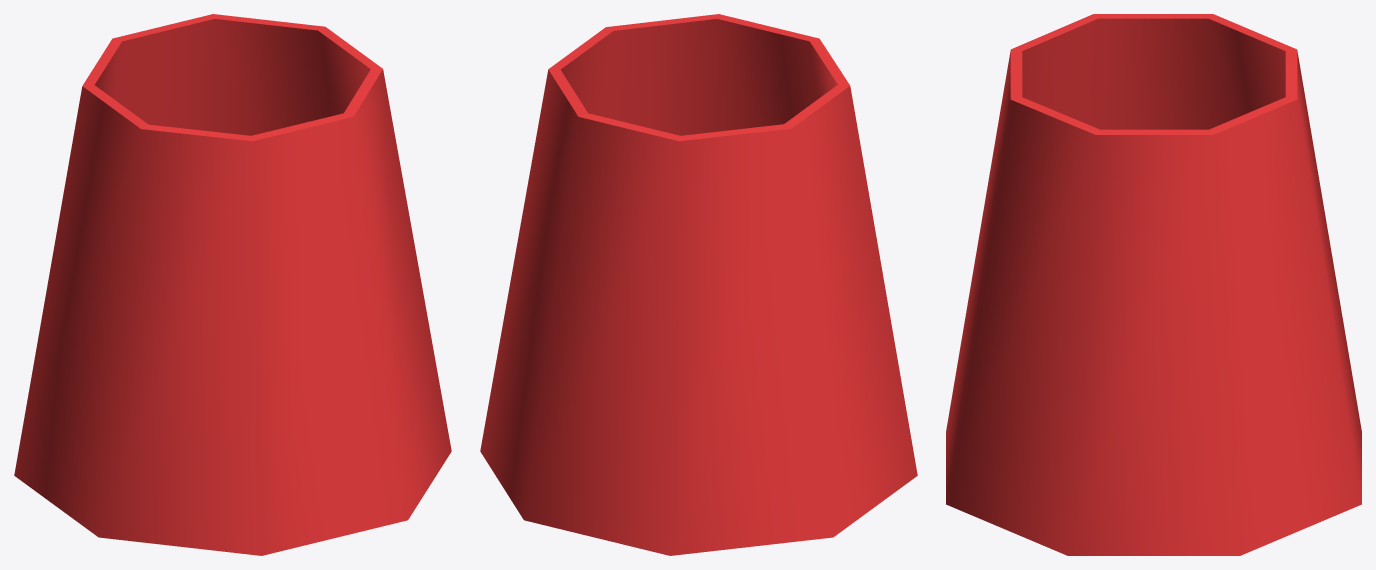
Rendered from Itr_Lamp_Cap1_05.FBX.
3 views of the same model, side by side, from view 1: azimuth 30°, elevation 25°; view 2: azimuth 150°, elevation 25°; view 3: azimuth 270°, elevation 25° (orthographic). The views are drawn at different scales.
Parts seen in each view (by area): view 1: Itr_Lamp_Cap1_05; view 2: Itr_Lamp_Cap1_05; view 3: Itr_Lamp_Cap1_05.
Boxes of the visible parts, box(x1,y1,x2,y2) form: Itr_Lamp_Cap1_05: box(14, 14, 451, 555); Itr_Lamp_Cap1_05: box(480, 14, 917, 555); Itr_Lamp_Cap1_05: box(946, 14, 1361, 555).
Size of the model in its own units: 8.48 by 8.86 by 8.48.
